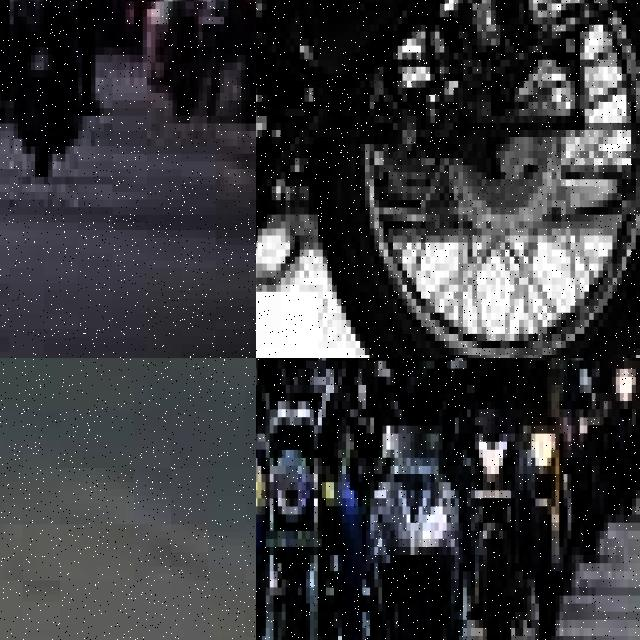bike: (256, 0, 640, 358), (256, 385, 346, 640), (374, 401, 470, 640), (0, 0, 82, 192), (470, 409, 523, 640), (531, 409, 579, 640), (612, 358, 640, 514)
